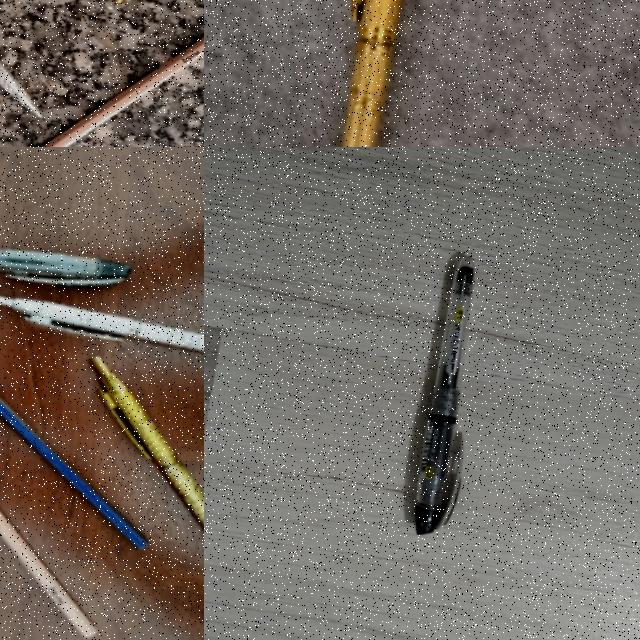pen: (415, 257, 474, 534), (0, 220, 129, 293)
pencil: (0, 2, 204, 147), (0, 399, 144, 545), (0, 510, 95, 637)
signature pen: (91, 357, 204, 528), (0, 294, 204, 365), (342, 0, 401, 147), (0, 63, 47, 124)
